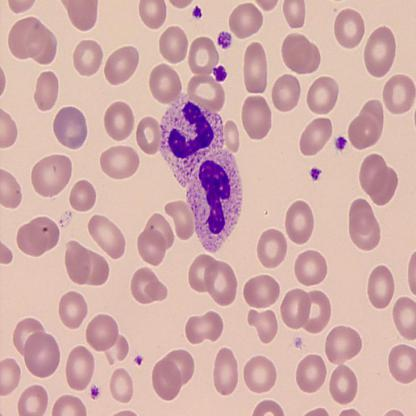Band Neutrophil: (154, 91, 230, 192), (183, 146, 246, 258)
